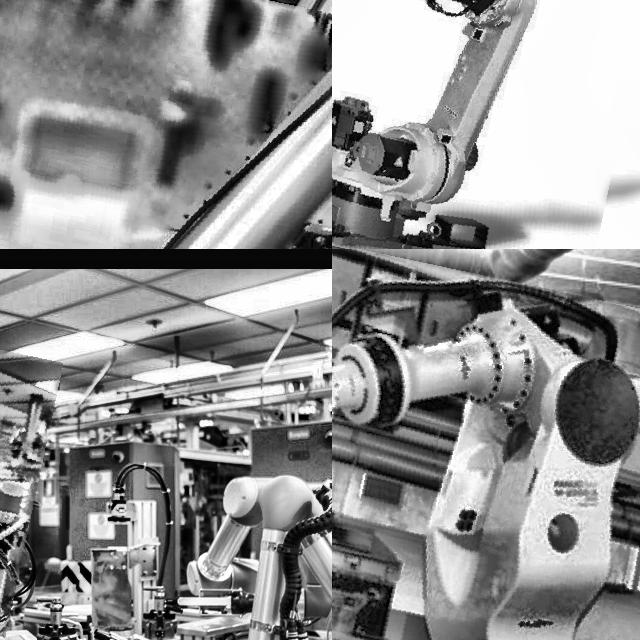robot: (332, 249, 640, 640), (0, 0, 332, 249), (332, 0, 640, 249), (183, 472, 327, 611), (234, 475, 332, 640), (0, 445, 49, 527)
